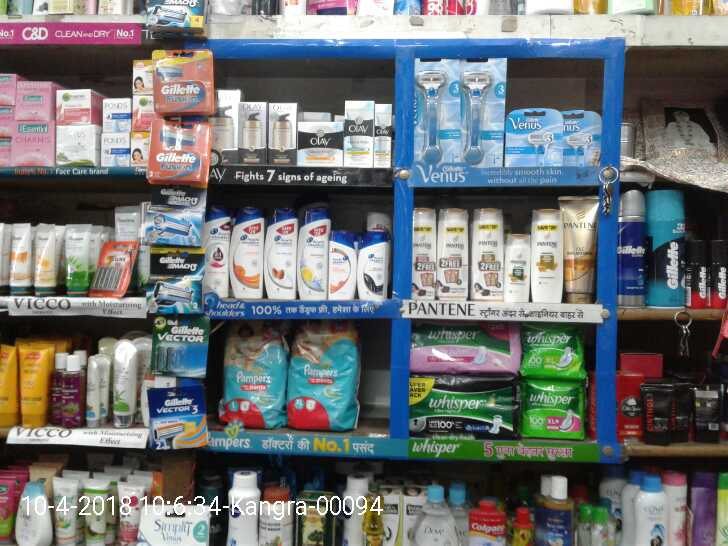gillete: (647, 187, 688, 305), (152, 48, 217, 114), (149, 118, 209, 182), (147, 249, 205, 311), (154, 385, 206, 451), (619, 187, 647, 308), (153, 316, 206, 376), (150, 185, 200, 244), (145, 1, 204, 33), (688, 239, 709, 305), (710, 241, 728, 309)
venus: (456, 59, 507, 160), (414, 59, 456, 160), (511, 107, 560, 161), (560, 111, 601, 161)
